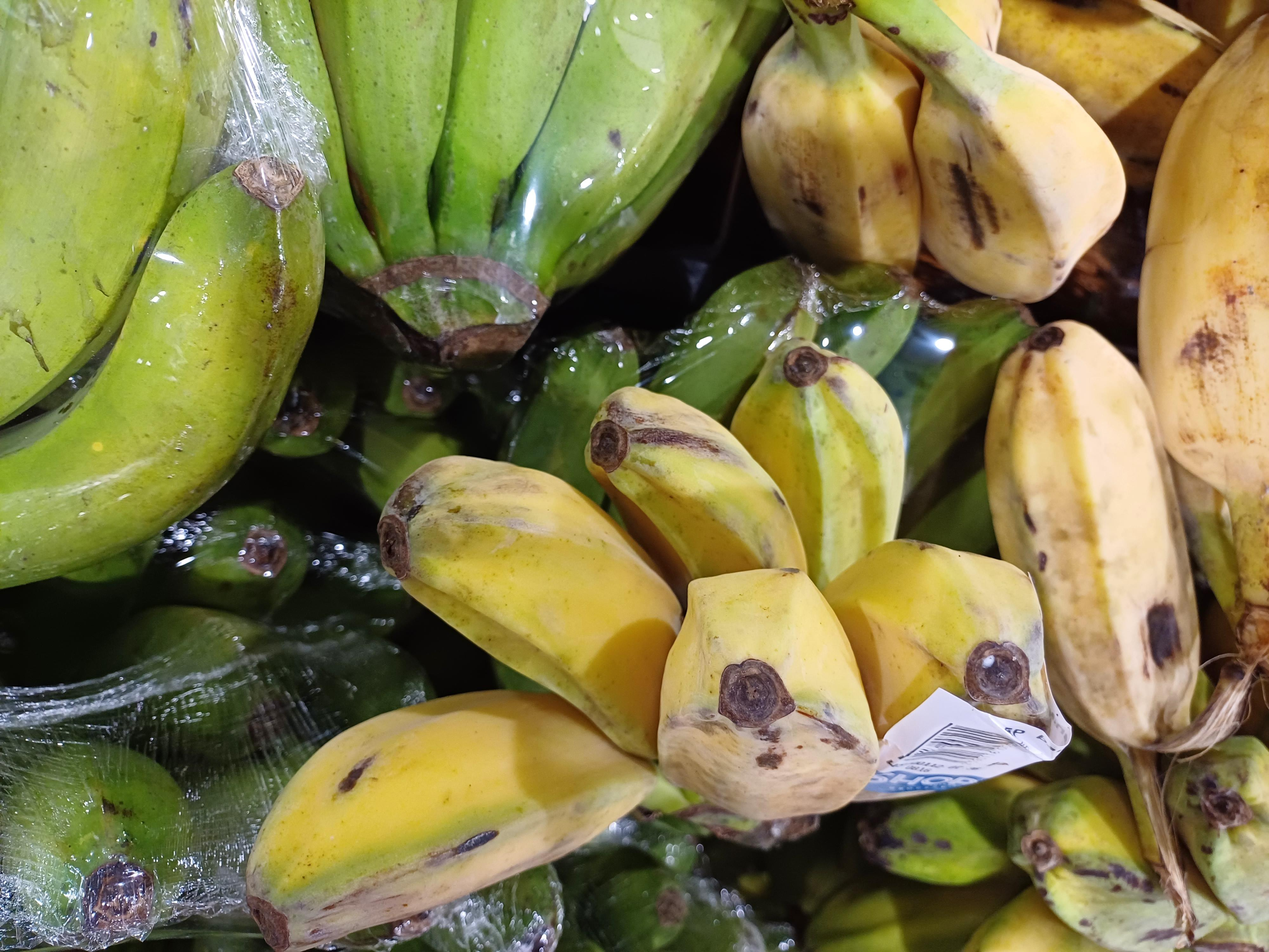ripe: (742, 29, 1126, 302)
underripe: (248, 339, 1052, 947), (804, 735, 1269, 952)
